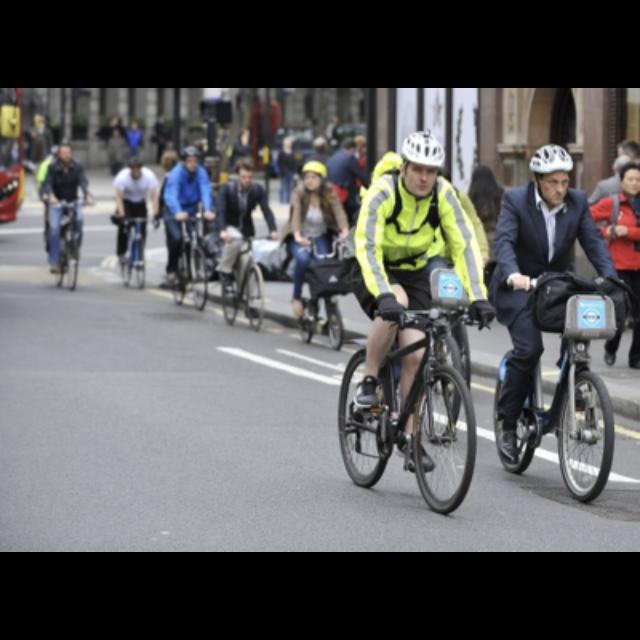With Helmet: (396, 124, 449, 198), (525, 140, 581, 208)
